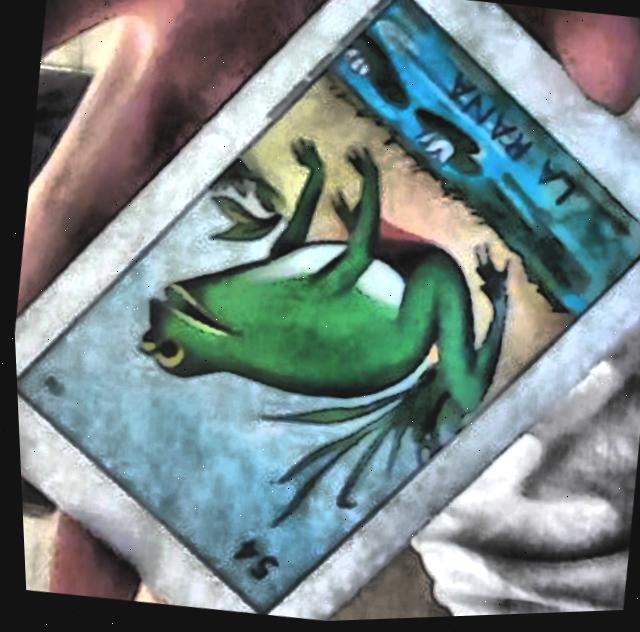La Rana: (13, 0, 640, 615)
